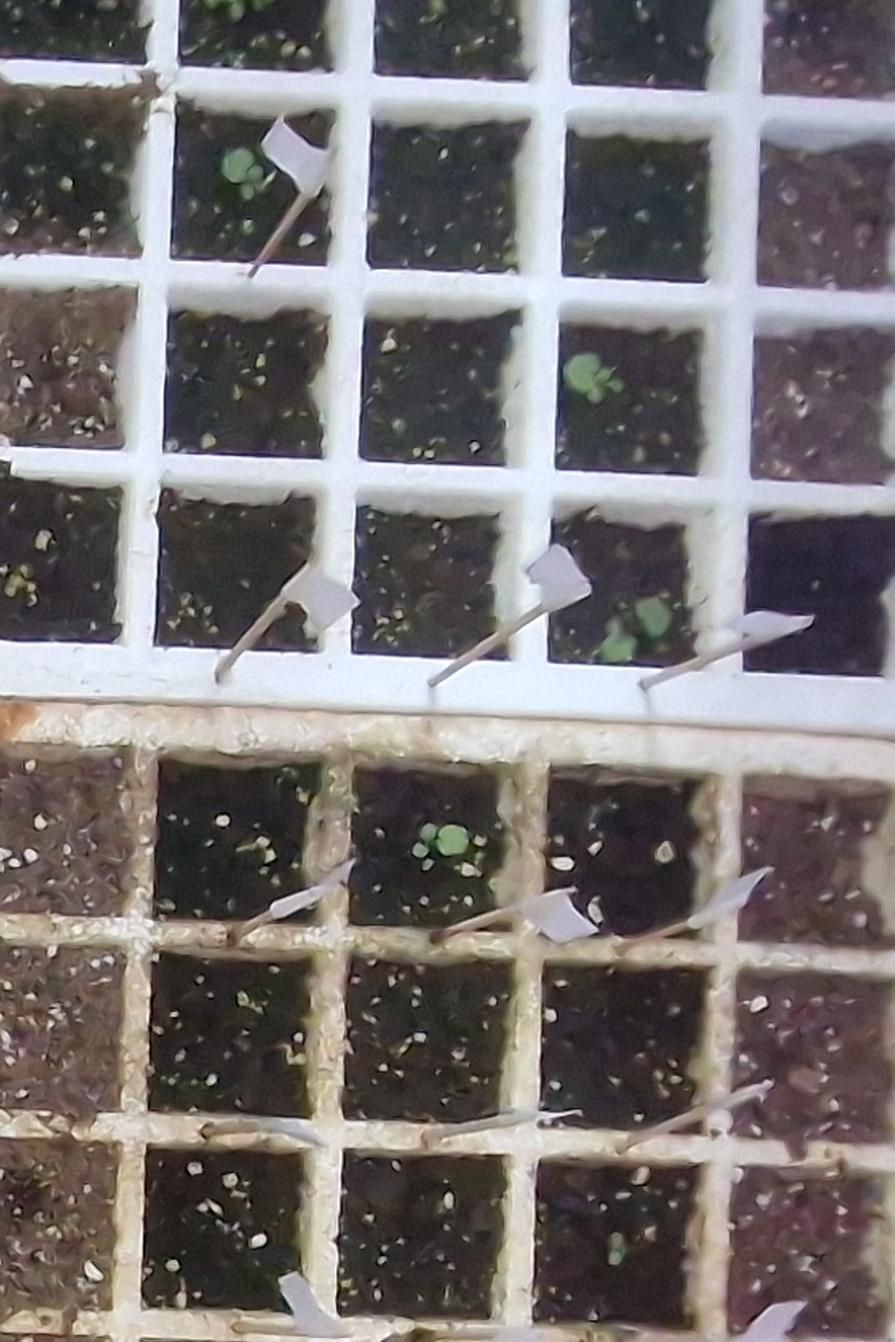Folha: (436, 825, 468, 856), (421, 823, 435, 842), (414, 842, 430, 858), (611, 1232, 623, 1249), (610, 1251, 622, 1267)
Germinacao: (411, 824, 468, 858), (608, 1232, 624, 1265)
